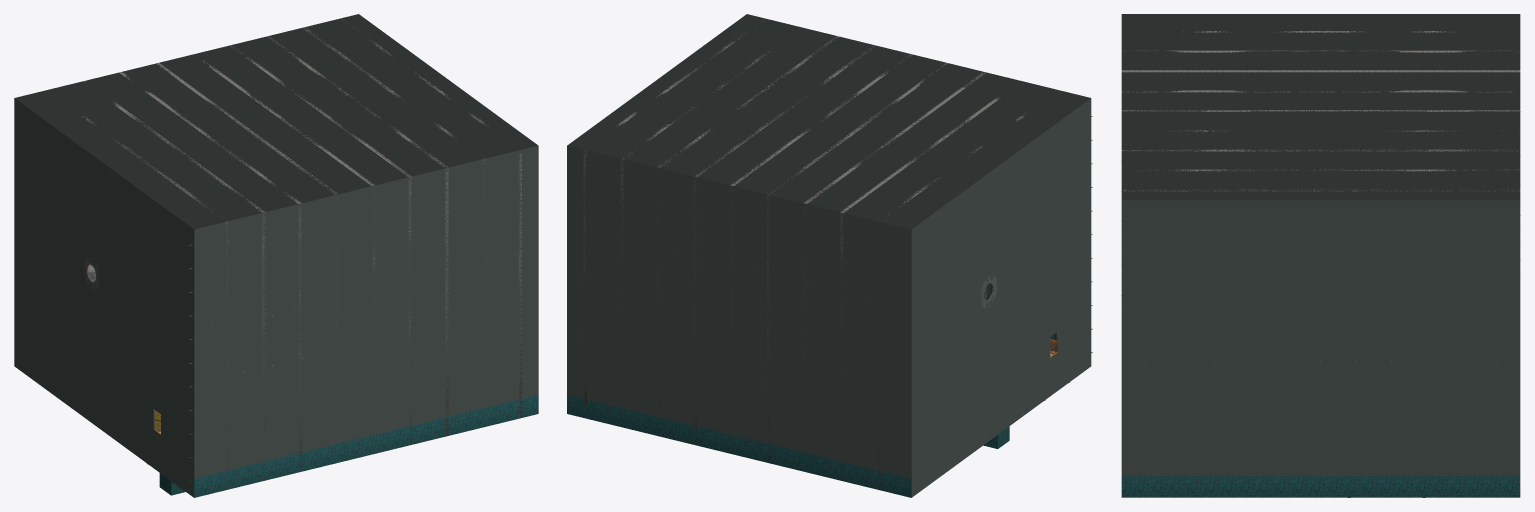
The model's file is inseguimento_struttura.glb.
The picture shows the model from 3 angles, left to right: view 1: azimuth 30°, elevation 25°; view 2: azimuth 150°, elevation 25°; view 3: azimuth 270°, elevation 25°; orthographic projection. The views are drawn at different scales.
Visible parts, largest first — view 1: ins_A_struttura-col; view 2: ins_A_struttura-col; view 3: ins_A_struttura-col.
Boxes of the visible parts, left/top/right/bottom form: ins_A_struttura-col: left=14, top=14, right=538, bottom=497; ins_A_struttura-col: left=567, top=14, right=1092, bottom=497; ins_A_struttura-col: left=1121, top=14, right=1520, bottom=497.
Bounding box in the file's own units: 38.01 × 32.5 × 34.06.
18 materials, 12 textured.
